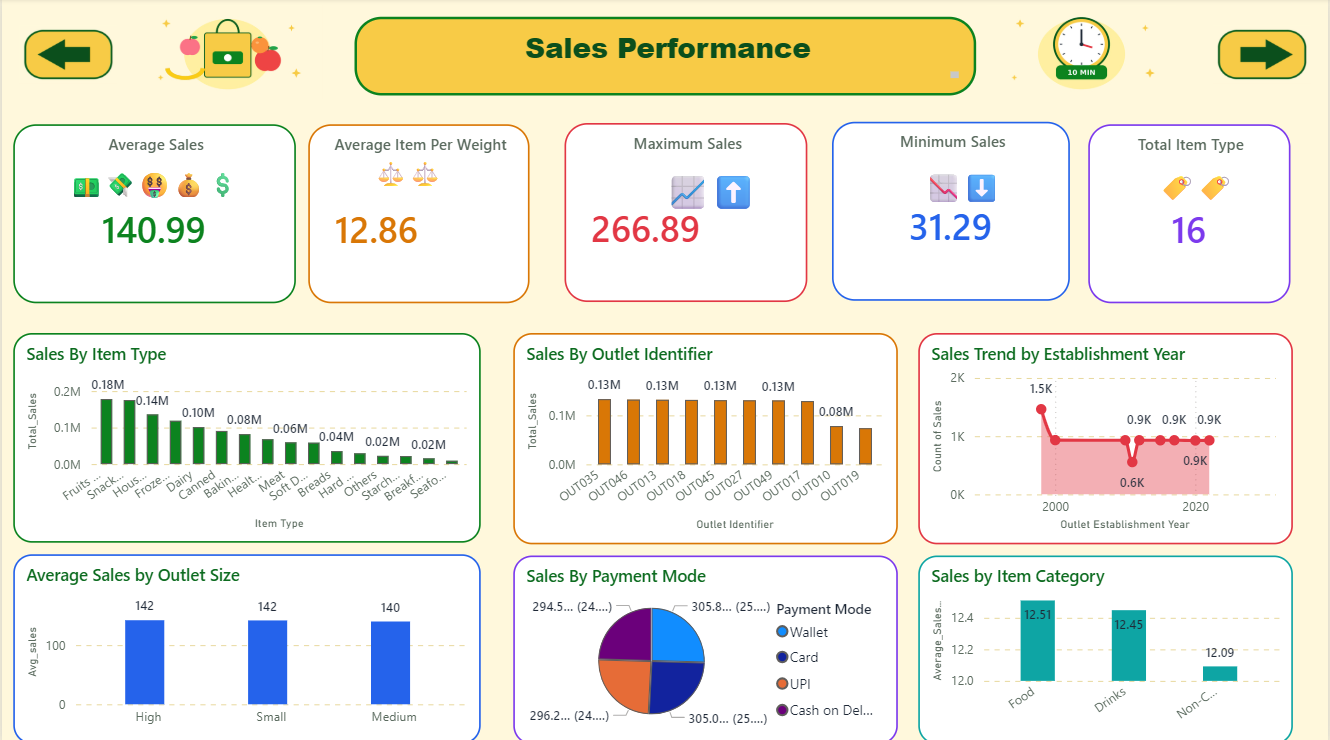

This screenshot's page, from the dashboard's own definition file:
{"tool":"powerbi","page":{"name":"Sales Performance ","canvas":[1280,720],"ordinal":2},"visuals":[{"type":"textbox","title":"Sales Performance","box":[340,18,600,76],"z":0},{"type":"image","box":[122,2,192,100],"z":1000},{"type":"image","box":[946,2,192,100],"z":2000},{"type":"cardVisual","title":"Average Item Per Weight","fields":{"Data":["blinkit_data_master.Average_item_weight"]},"box":[295,121.2,213.8,172.5],"z":3000},{"type":"cardVisual","title":"Maximum Sales","fields":{"Data":["blinkit_data_master.Maximum_Sales"]},"box":[542.9,121.1,234.8,172.4],"z":4000},{"type":"cardVisual","title":"Minimum Sales","fields":{"Data":["blinkit_data_master.minimum_sales"]},"box":[801,119.8,229.9,172.4],"z":5000},{"type":"cardVisual","title":"Total Item Type","fields":{"Data":["blinkit_data_master.Total_Item_types"]},"box":[1048.8,121.2,195,172.5],"z":6000},{"type":"clusteredColumnChart","title":"Sales By Item Type","fields":{"Y":["blinkit_data_master.Total_Sales"],"Category":["blinkit_data_master.Item Type"]},"box":[11.2,323.8,451.2,202.5],"z":7000},{"type":"clusteredColumnChart","title":"Average Sales by Outlet Size","fields":{"Y":["blinkit_data_master.Avg_sales"],"Category":["blinkit_data_master.Outlet Size"]},"box":[11,537,451,183],"z":8000},{"type":"clusteredColumnChart","title":"Sales By Outlet Identifier","fields":{"Category":["blinkit_data_master.Outlet Identifier"],"Y":["blinkit_data_master.Total_Sales"]},"box":[493.8,323.8,371.2,203.8],"z":9000},{"type":"pieChart","title":"Sales By Payment Mode","fields":{"Category":["blinkit_data_master.Payment Mode"],"Y":["blinkit_data_master.Total_Sales"]},"box":[493.8,537.5,371.2,182.5],"z":10000},{"type":"clusteredColumnChart","title":"Sales by Item Category","fields":{"Category":["blinkit_data_master.Item Category"],"Y":["blinkit_data_master.Average_Sales_per Weight"]},"box":[884.1,538,362,182.2],"z":11000},{"type":"lineChart","title":"Sales Trend by Establishment Year","fields":{"Y":["CountNonNull(blinkit_data_master.Sales)"],"Category":["blinkit_data_master.Outlet Establishment Year"]},"box":[883.8,323.8,361.2,203.8],"z":12000},{"type":"cardVisual","title":"Average Sales","fields":{"Data":["blinkit_data_master.Avg_sales"]},"box":[11.2,121.2,272.5,172.5],"z":13000},{"type":"textbox","box":[11,159,272.7,48.9],"z":14000},{"type":"textbox","box":[275.1,148,233.6,51.4],"z":15000},{"type":"textbox","box":[589.4,159,188.3,91.7],"z":16000},{"type":"textbox","box":[824.2,159,206.7,91.7],"z":17000},{"type":"textbox","box":[1073.6,159,157.7,46.5],"z":18000},{"type":"image","box":[12,22,104,66],"z":19000},{"type":"image","box":[1164,22,104,66],"z":20000}]}

Visuals, with their boxes in screenshot pixels (x1, y1, x2, y2), scaled from the page's 1280x720 canvas onto the 1330x740 screenshot:
"Sales Performance" textbox: (353,18,977,97)
image: (127,2,326,105)
image: (983,2,1182,105)
"Average Item Per Weight" cardVisual: (307,125,529,302)
"Maximum Sales" cardVisual: (564,124,808,302)
"Minimum Sales" cardVisual: (832,123,1071,300)
"Total Item Type" cardVisual: (1090,125,1292,302)
"Sales By Item Type" clusteredColumnChart: (12,333,480,541)
"Average Sales by Outlet Size" clusteredColumnChart: (11,552,480,739)
"Sales By Outlet Identifier" clusteredColumnChart: (513,333,899,542)
"Sales By Payment Mode" pieChart: (513,552,899,739)
"Sales by Item Category" clusteredColumnChart: (919,553,1295,739)
"Sales Trend by Establishment Year" lineChart: (918,333,1294,542)
"Average Sales" cardVisual: (12,125,295,302)
textbox: (11,163,295,214)
textbox: (286,152,529,205)
textbox: (612,163,808,258)
textbox: (856,163,1071,258)
textbox: (1116,163,1279,211)
image: (12,23,121,90)
image: (1209,23,1318,90)
